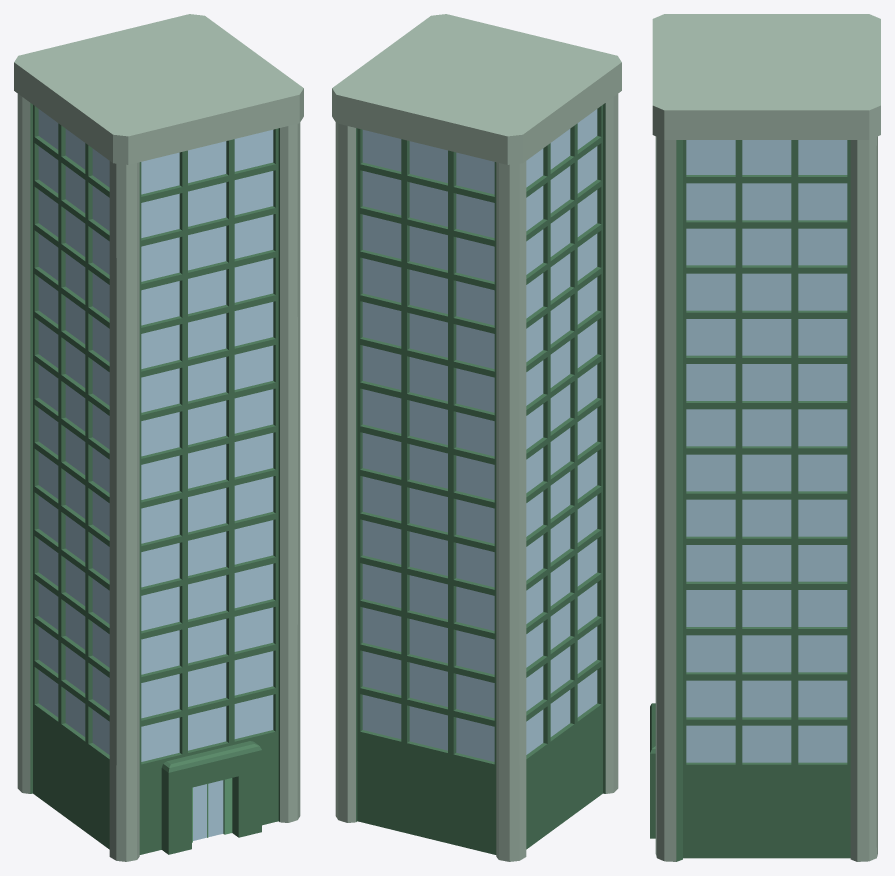
Rendered from skyscraperE.fbx.
3 renders of one model, left to right at view 1: azimuth 30°, elevation 25°; view 2: azimuth 150°, elevation 25°; view 3: azimuth 270°, elevation 25°, orthographic. The views are drawn at different scales.
Parts seen in each view (by area): view 1: SkyscraperE; view 2: SkyscraperE; view 3: SkyscraperE.
Part boxes in pixels (left/top/right/bottom): SkyscraperE: left=14, top=14, right=303, bottom=861; SkyscraperE: left=332, top=14, right=621, bottom=861; SkyscraperE: left=650, top=14, right=880, bottom=861.
Bounding box in the file's own units: 1289 × 4693 × 1305.
